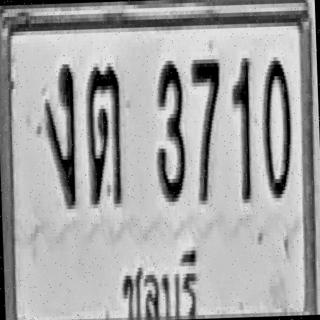A07: (42, 62, 78, 208)
A21: (85, 62, 123, 204)
N00: (260, 56, 293, 198)
N01: (230, 54, 255, 203)
N03: (153, 56, 188, 202)
N07: (190, 55, 224, 204)
P13: (115, 244, 204, 320)
